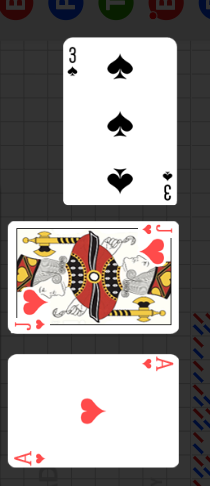3S: (66, 45, 80, 79), (160, 168, 174, 201)
AH: (140, 357, 175, 373)
